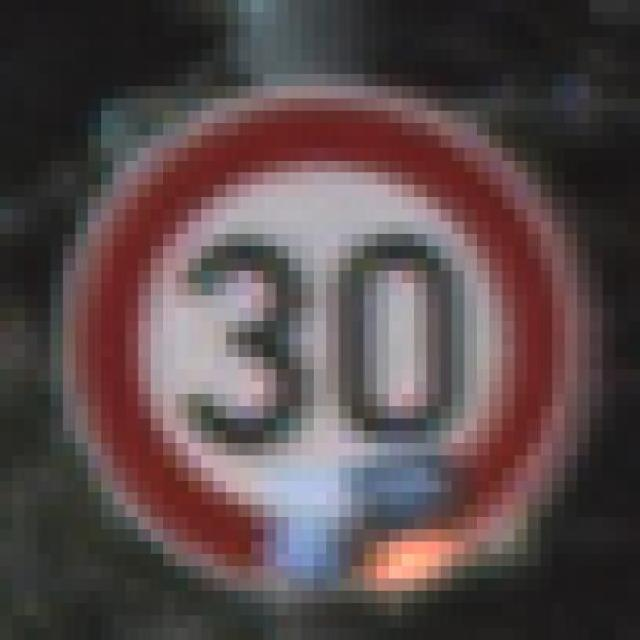Speed Limit 30 KMPh: (38, 49, 614, 603)
